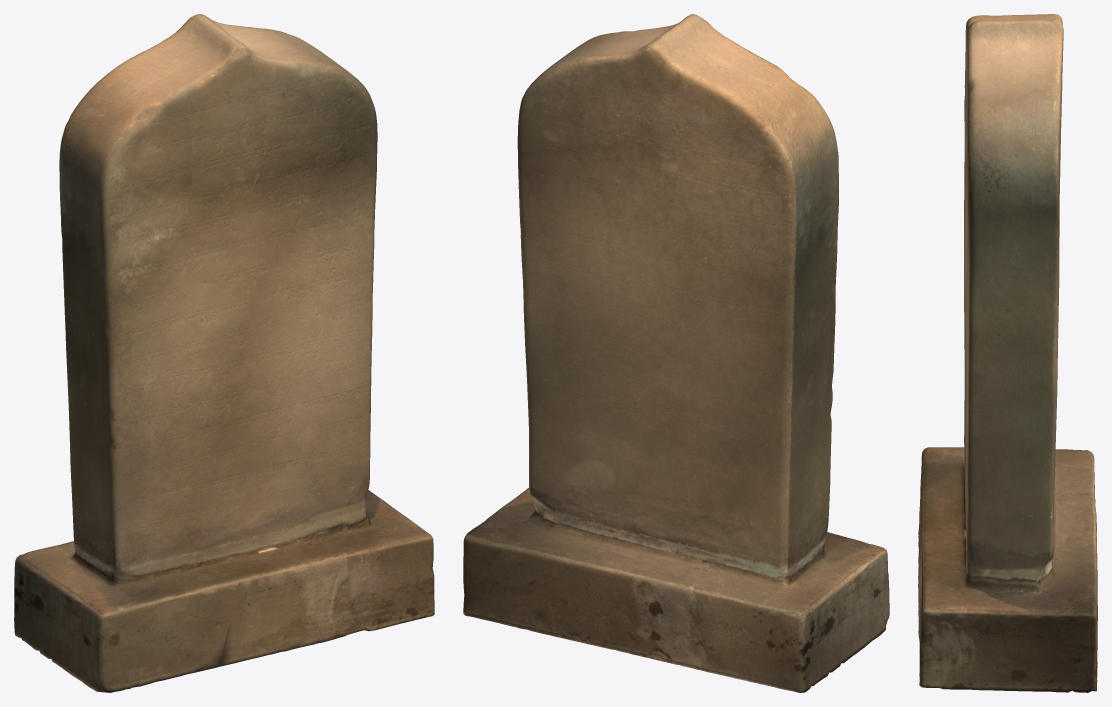
File: 5_biada_final.glb
3 renders of one model, left to right at view 1: azimuth 30°, elevation 25°; view 2: azimuth 150°, elevation 25°; view 3: azimuth 270°, elevation 25°, orthographic.
Size of the model in its own units: 0.6202 by 1.04 by 0.2874.
Materials: 1 (1 with a texture image).
